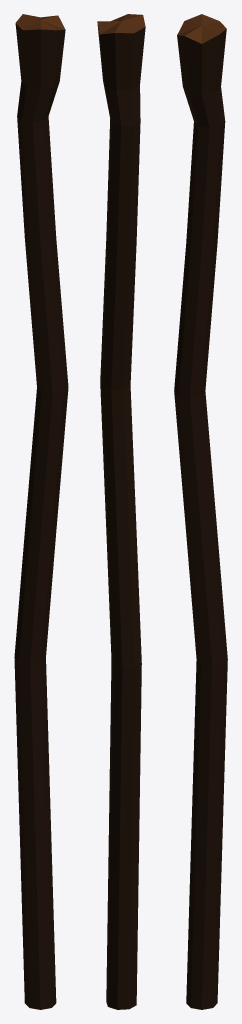
Rendered from PALKA.fbx.
3 views of the same model, side by side, from view 1: azimuth 90°, elevation 25°; view 2: azimuth 210°, elevation 25°; view 3: azimuth 270°, elevation 25° (orthographic).
Visible parts, largest first — view 1: Cylinder001; view 2: Cylinder001; view 3: Cylinder001.
Boxes of the visible parts, x1,y1,x2,y2 form: Cylinder001: (14,14,68,1009); Cylinder001: (97,14,145,1009); Cylinder001: (174,14,227,1009).
Size of the model in its own units: 64.99 by 1410 by 70.15.
